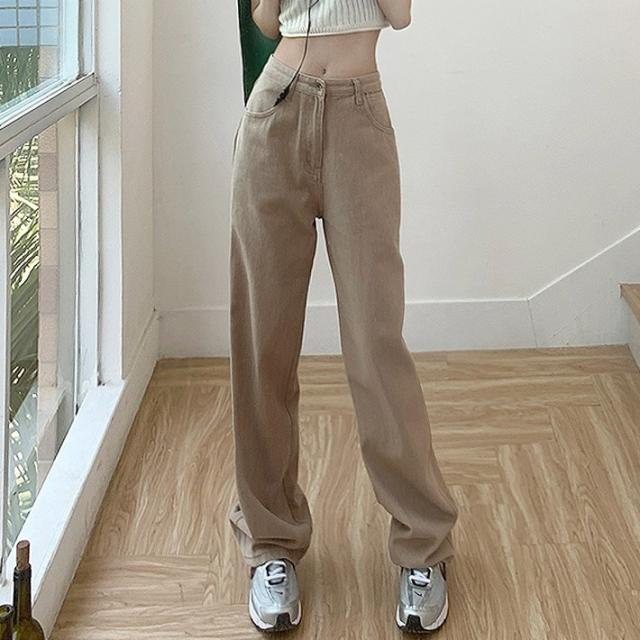long-pants: (229, 51, 457, 570)
